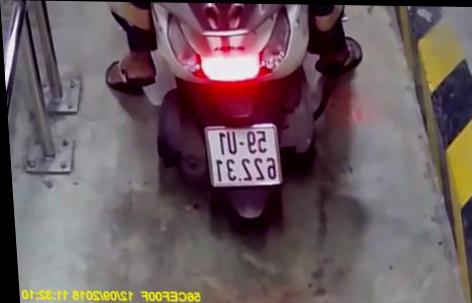License_Plate: (196, 117, 295, 192)
